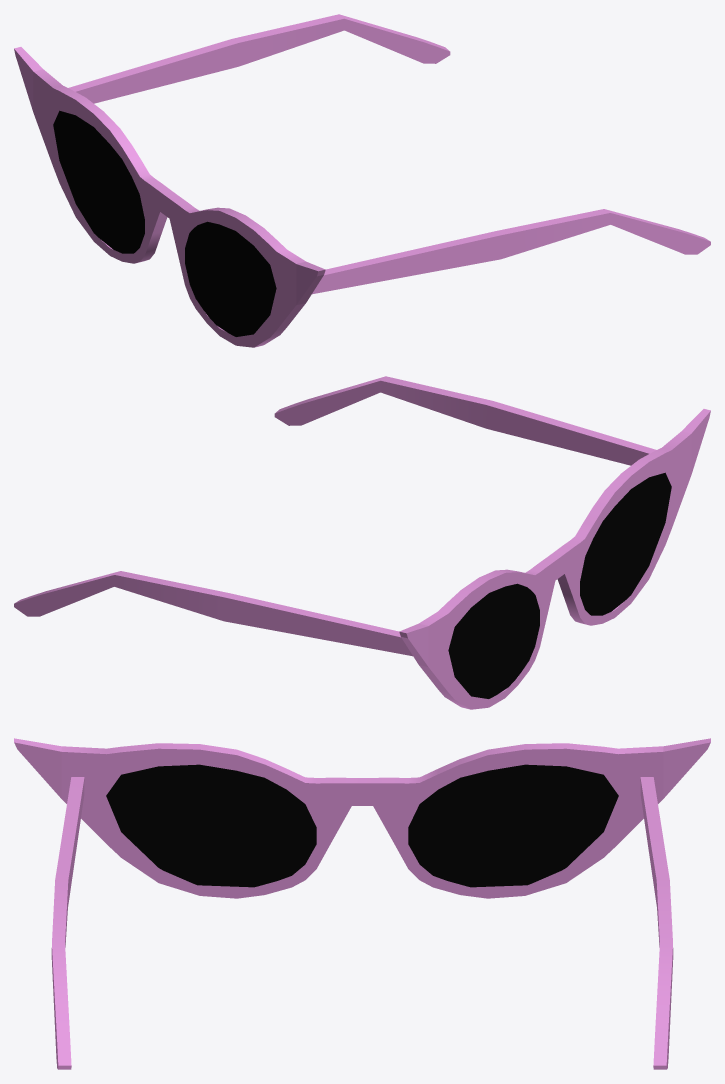
Rendered from SM_glasses.fbx.
3 views of the same model, one above another, from view 1: azimuth 30°, elevation 25°; view 2: azimuth 150°, elevation 25°; view 3: azimuth 270°, elevation 25° (orthographic). The views are drawn at different scales.
Parts seen in each view (by area): view 1: SM_glasses; view 2: SM_glasses; view 3: SM_glasses.
Boxes of the visible parts, x1=… form: SM_glasses: x1=14, y1=14, x2=710, y2=347; SM_glasses: x1=14, y1=376, x2=710, y2=709; SM_glasses: x1=14, y1=738, x2=710, y2=1069.
Bounding box in the file's own units: 23.57 × 30.08 × 7.41.
Materials: 1 (1 with a texture image).
